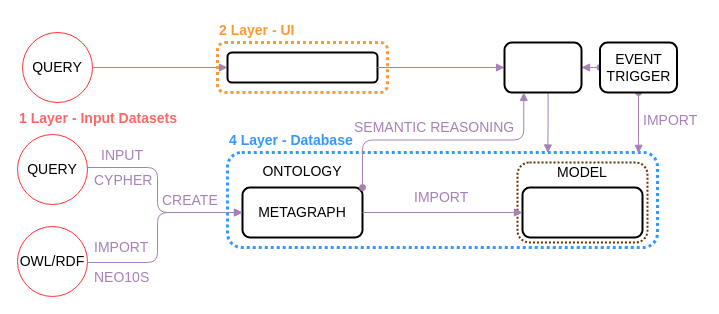
Image size: 719x314. Some labels were removed from this diagram. The box of each missing label's shape, as (x1, y1, x2, y2) in pixels:
DATA GRAPH: (521, 186, 643, 238)
INFER ACTION: (503, 41, 582, 93)
INPUT INDIVIDUALS: (226, 51, 378, 83)
